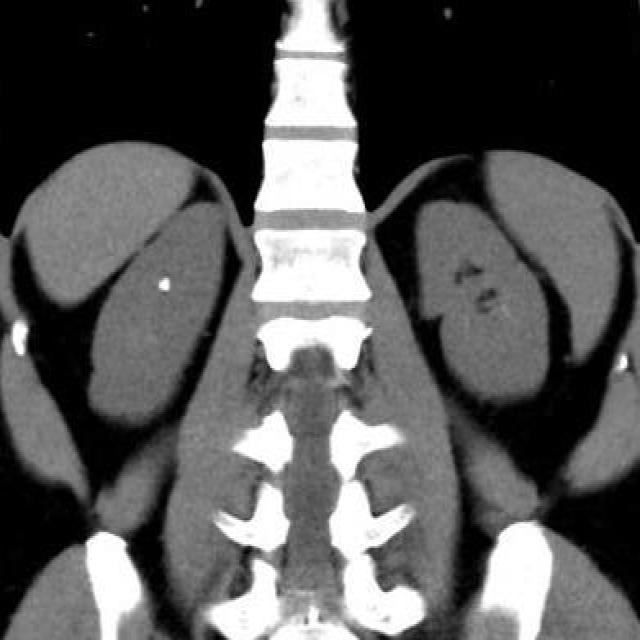Tas_Var: (156, 280, 173, 292), (162, 277, 170, 283)
